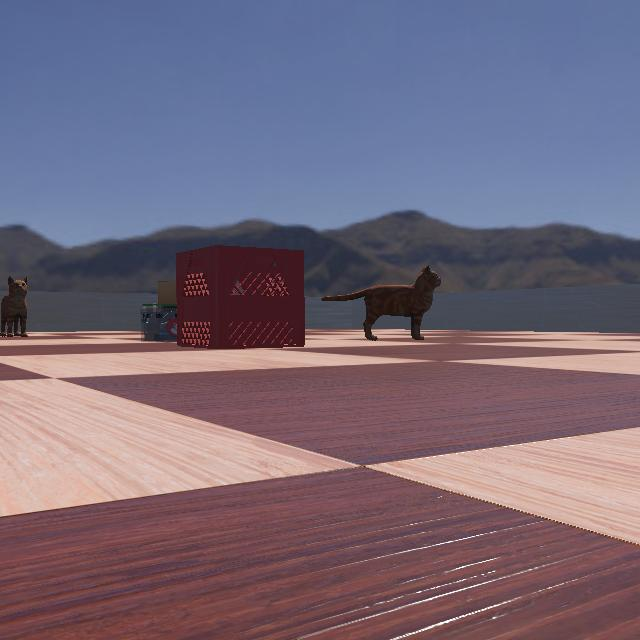cat: (320, 264, 444, 340), (320, 264, 444, 340), (0, 274, 56, 338), (0, 274, 56, 338), (0, 274, 56, 338)
plastic-crate: (158, 244, 306, 348)
